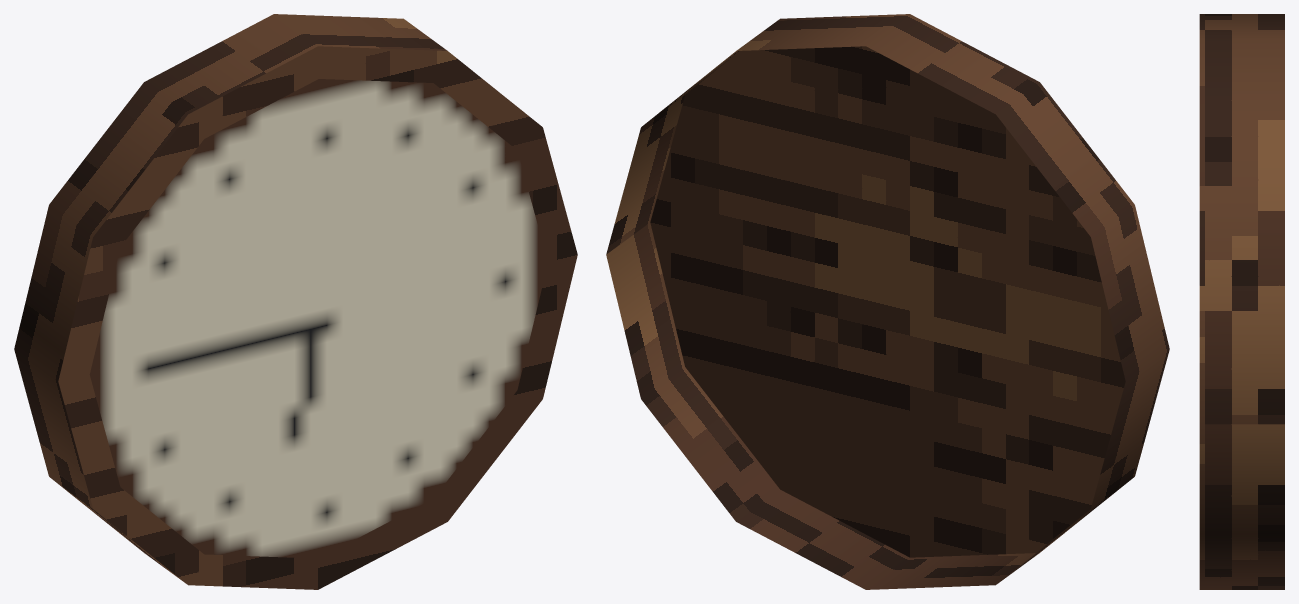
Rendered from RES_WallClock.obj.
3 views of the same model, side by side, from view 1: azimuth 30°, elevation 25°; view 2: azimuth 150°, elevation 25°; view 3: azimuth 270°, elevation 25° (orthographic). The views are drawn at different scales.
Visible parts, largest first — view 1: RES_WallClock_Mesh_M_Res_DetailAtlas, RES_WallClock_Mesh_M_Furn_WoodDark; view 2: RES_WallClock_Mesh_M_Furn_WoodDark; view 3: RES_WallClock_Mesh_M_Furn_WoodDark.
Boxes of the visible parts, <box> form: RES_WallClock_Mesh_M_Res_DetailAtlas: <box>89,79,547,558</box>; RES_WallClock_Mesh_M_Furn_WoodDark: <box>14,14,577,589</box>; RES_WallClock_Mesh_M_Furn_WoodDark: <box>606,14,1169,589</box>; RES_WallClock_Mesh_M_Furn_WoodDark: <box>1199,14,1284,589</box>.
Size of the model in its own units: 0.34 by 0.34 by 0.051.
Materials: 2 (2 with a texture image).
